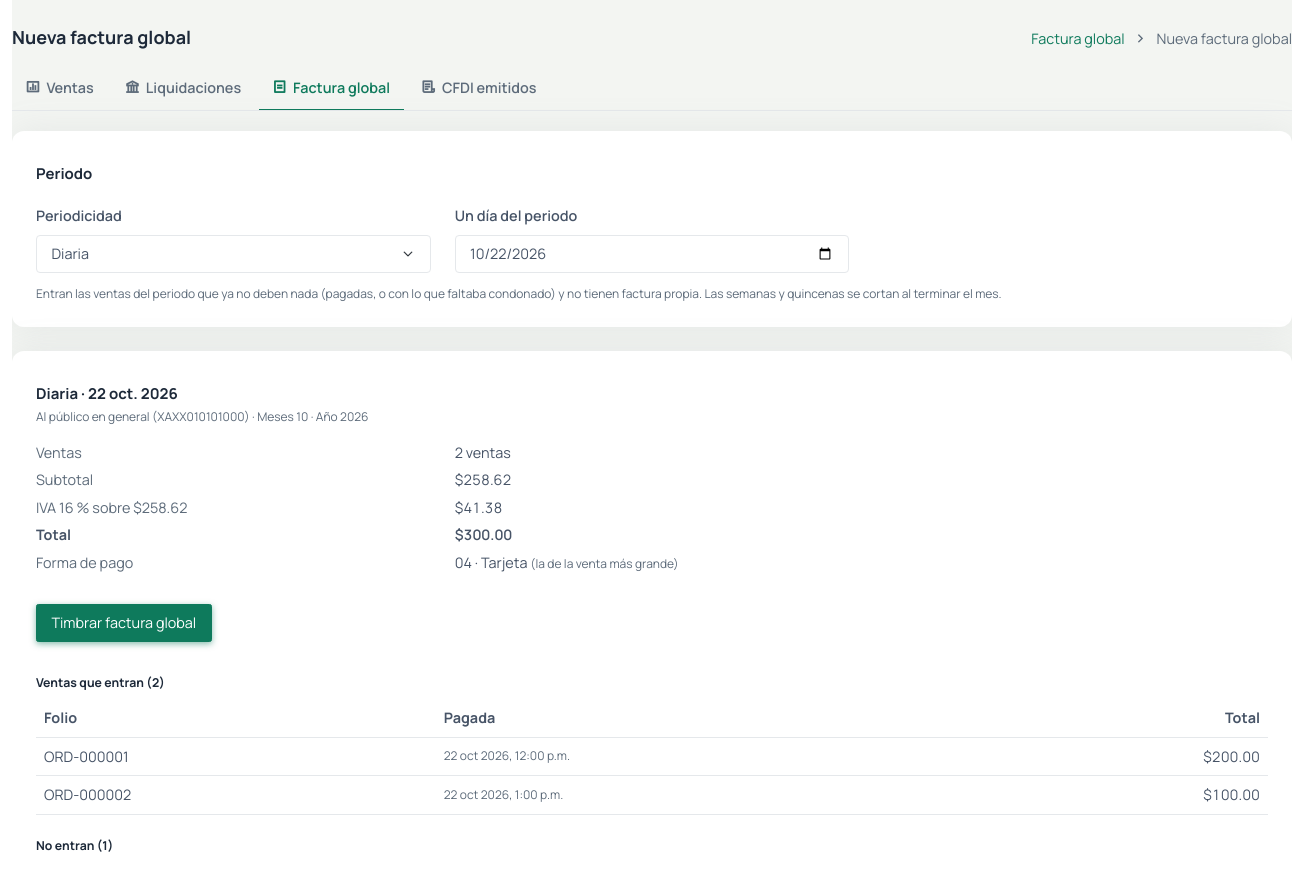
NewGlobalInvoice › asks for the period chosen and stamps nothing while something stops it
Expected: the heading "Diaria · 22 oct. 2026" is shown, [36, 383, 178, 403]
Expected: the button "Timbrar factura global" is enabled, [36, 604, 212, 642]
Select "Mensual" in the dropdown labelled "Periodicidad": (233, 254) [36, 235, 431, 273]
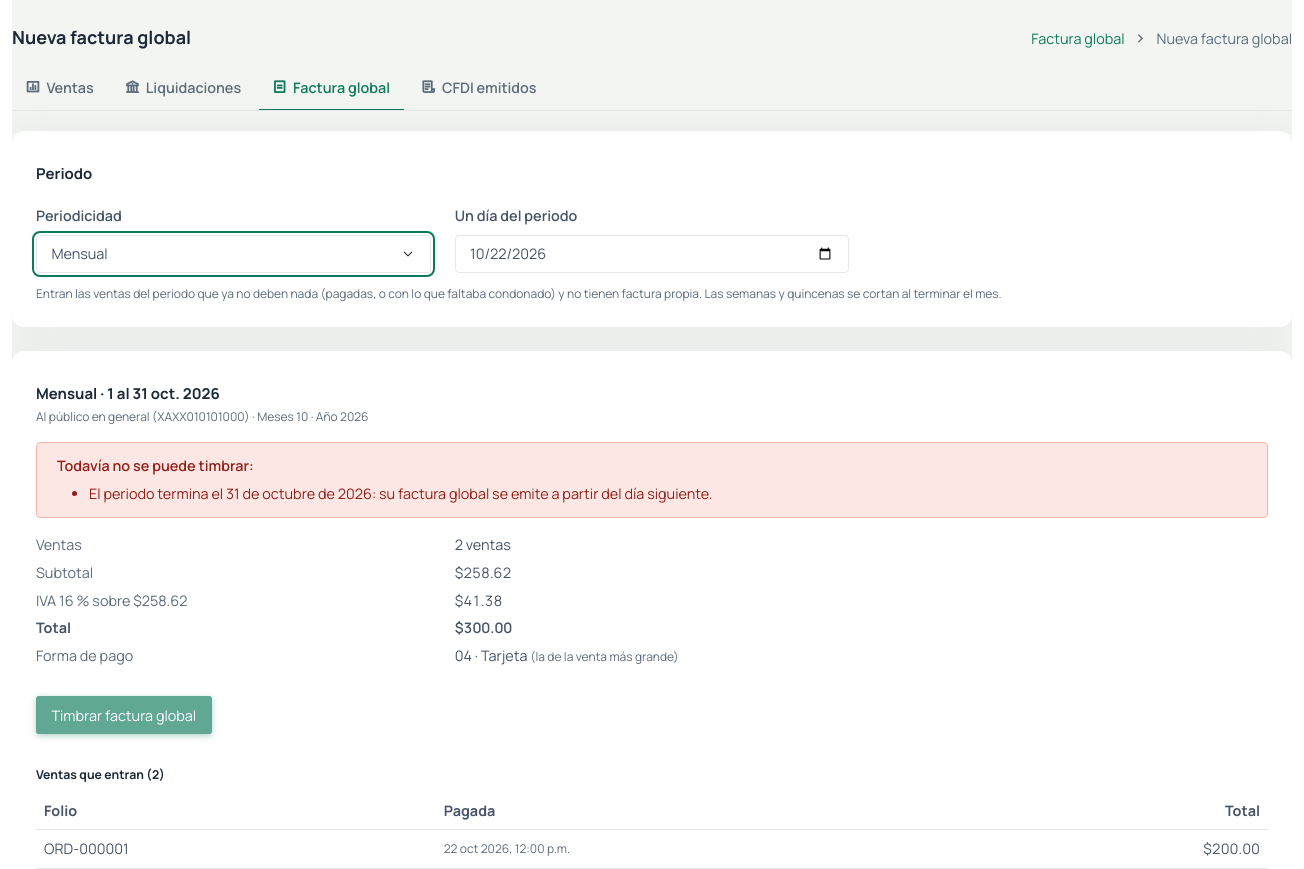
Result: the heading "Mensual · 1 al 31 oct. 2026" is shown at [36, 383, 220, 403]
Result: the list item "El periodo termina el 31 de octubre de 2026: su factura global se emite a partir del día siguiente." is shown at [89, 484, 712, 503]
Result: the button "Timbrar factura global" is disabled at [36, 696, 212, 734]
